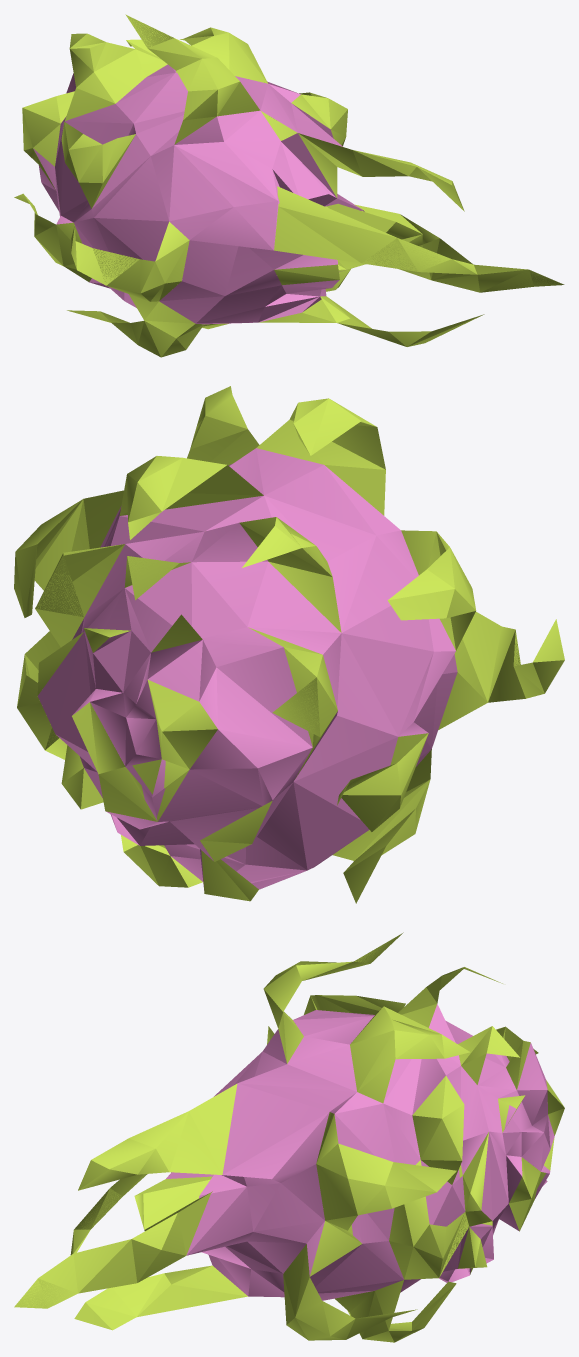
Rendered from dragon-fruit-2.glb.
3 views of the same model, one above another, from view 1: azimuth 30°, elevation 25°; view 2: azimuth 150°, elevation 25°; view 3: azimuth 270°, elevation 25° (orthographic). The views are drawn at different scales.
Parts seen in each view (by area): view 1: Leaf_Leaf_0, Fruit_Fruit_0; view 2: Fruit_Fruit_0, Leaf_Leaf_0; view 3: Leaf_Leaf_0, Fruit_Fruit_0.
Boxes of the visible parts, <box> form: Leaf_Leaf_0: <box>14,14,564,357</box>; Fruit_Fruit_0: <box>33,64,364,324</box>; Fruit_Fruit_0: <box>38,448,457,890</box>; Leaf_Leaf_0: <box>14,386,564,903</box>; Leaf_Leaf_0: <box>14,932,564,1342</box>; Fruit_Fruit_0: <box>166,1004,554,1300</box>.
Bounding box in the file's own units: 3.87 × 3.11 × 4.35.
